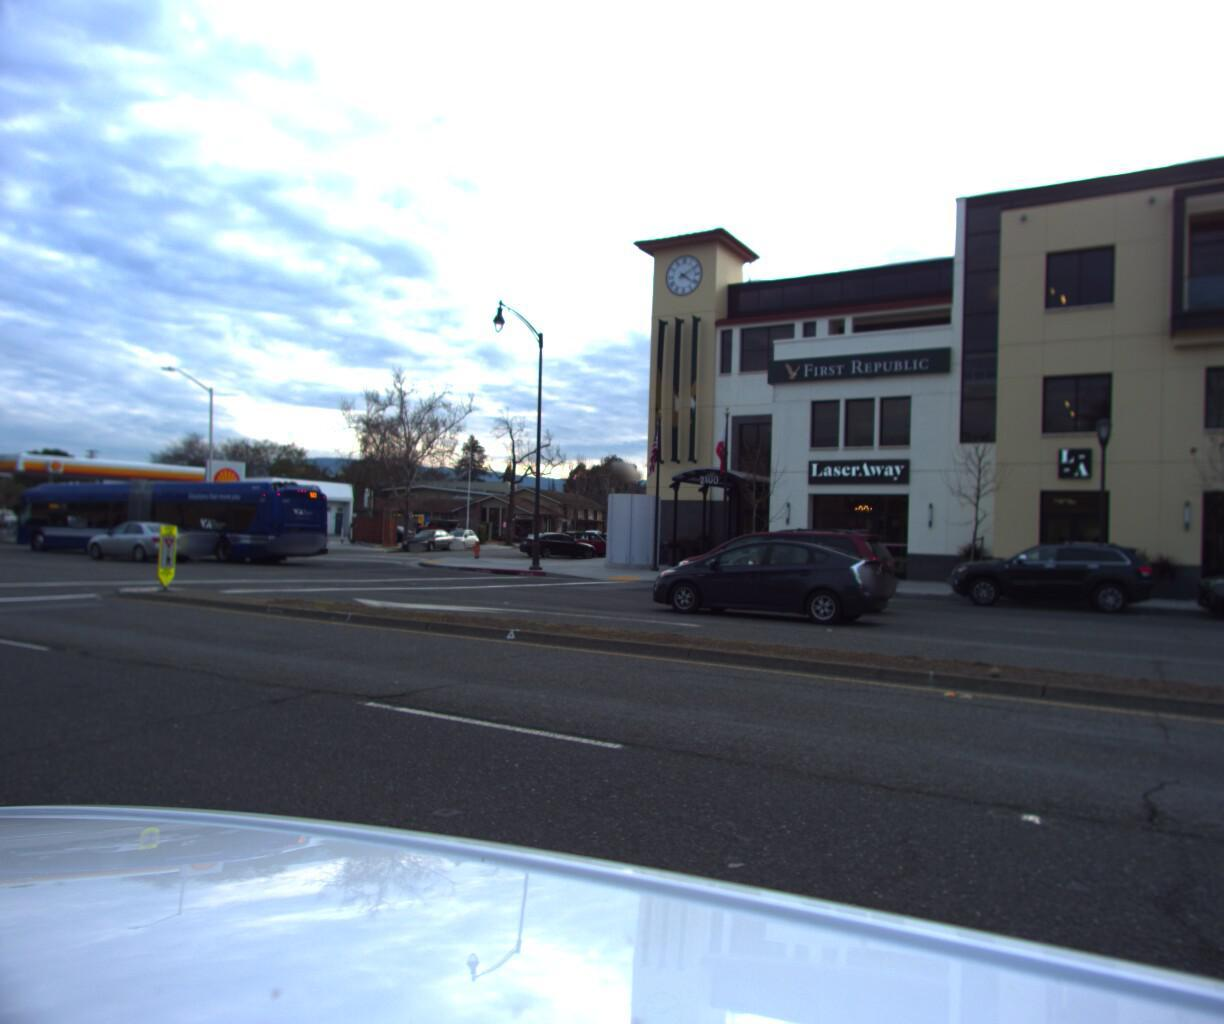bus: (14, 479, 340, 569)
car: (642, 534, 898, 629), (663, 524, 895, 611), (940, 535, 1159, 619), (75, 522, 199, 566), (1182, 545, 1224, 636), (512, 528, 596, 559), (549, 529, 620, 557), (394, 528, 458, 555), (410, 519, 467, 545), (433, 529, 490, 554)
